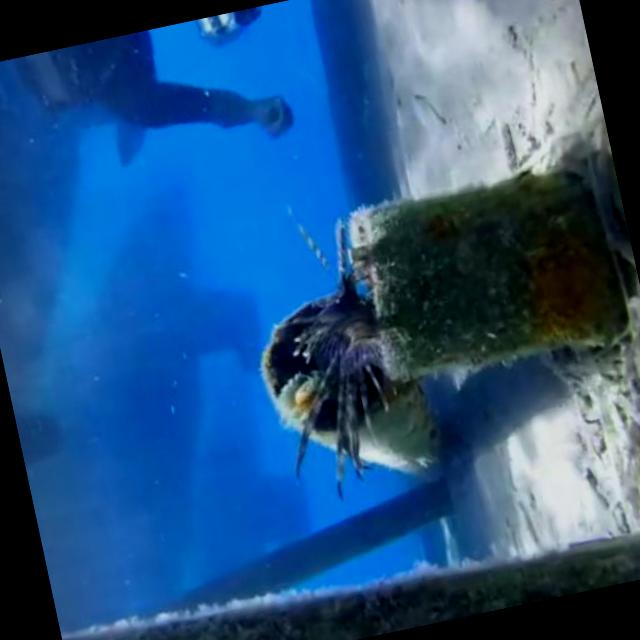Aslan Baligi: (239, 190, 419, 522)
